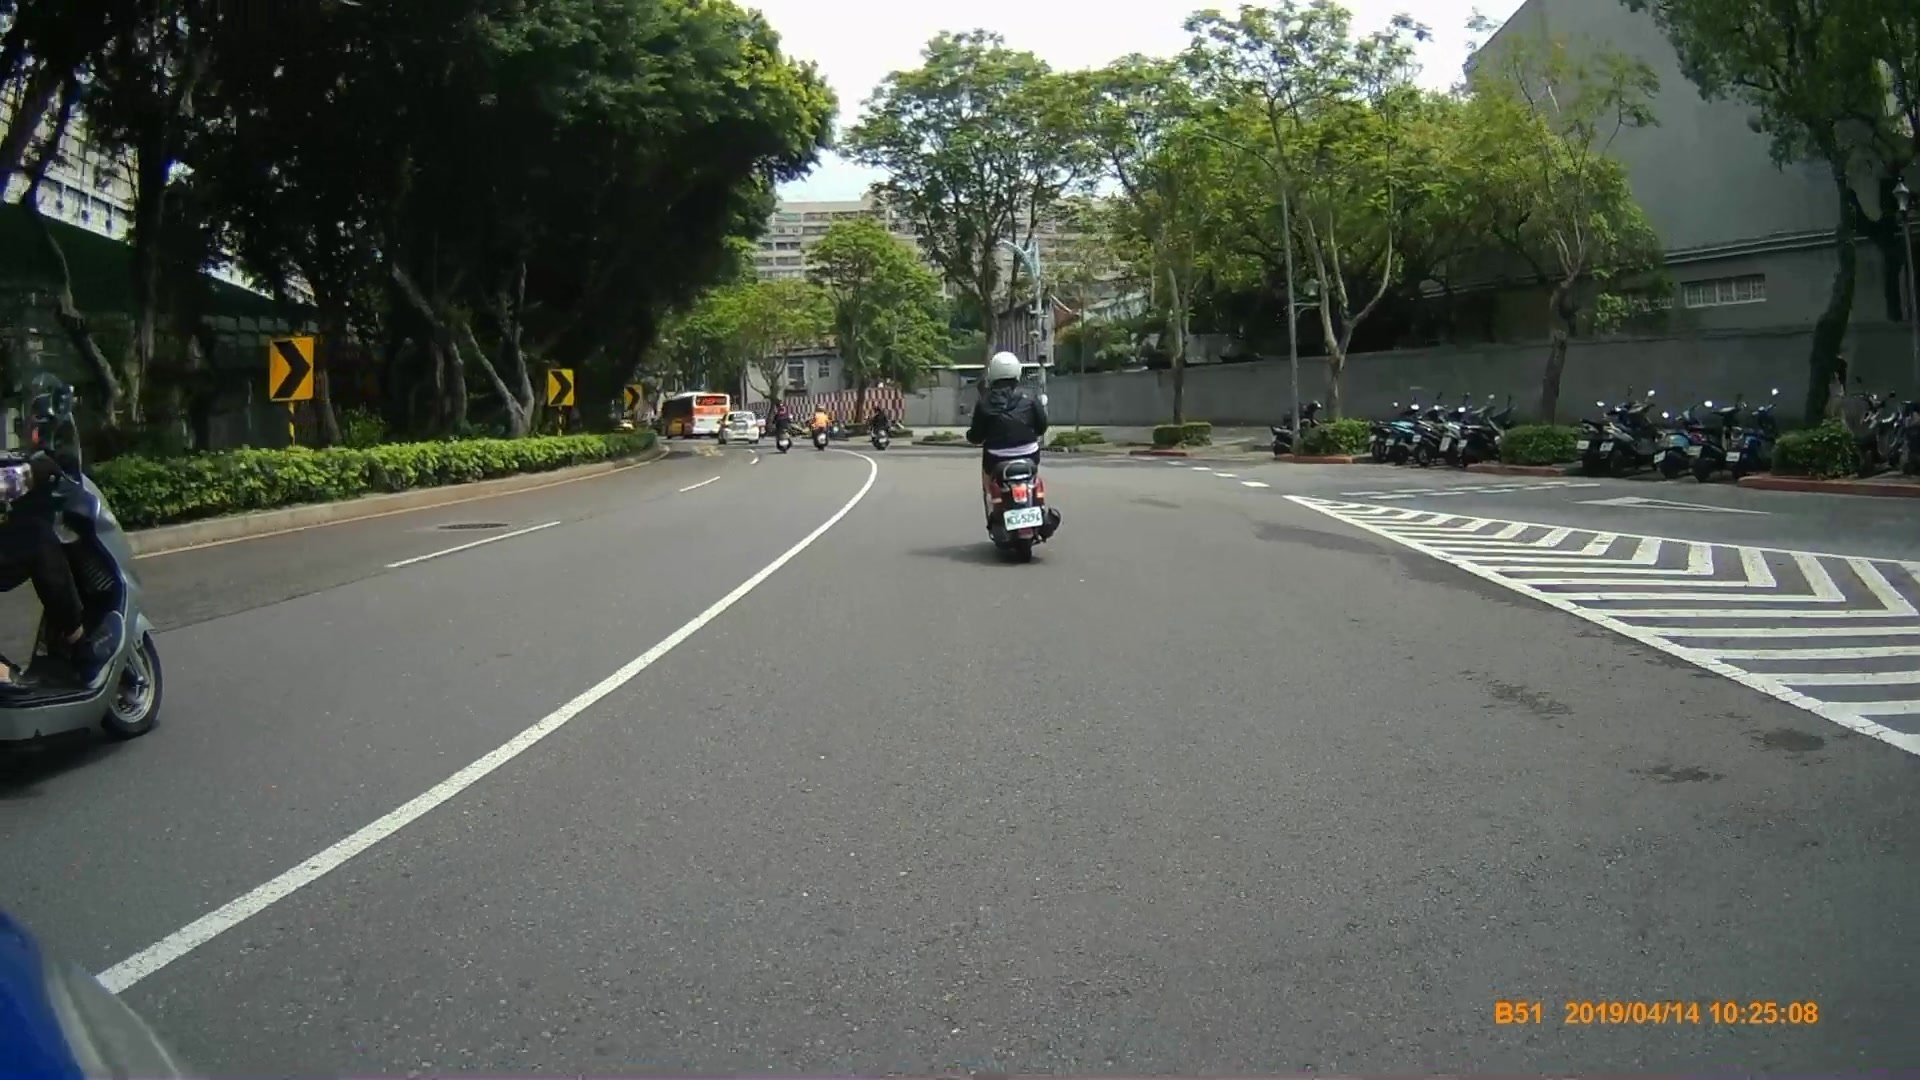License_plate: (999, 504, 1047, 530)
